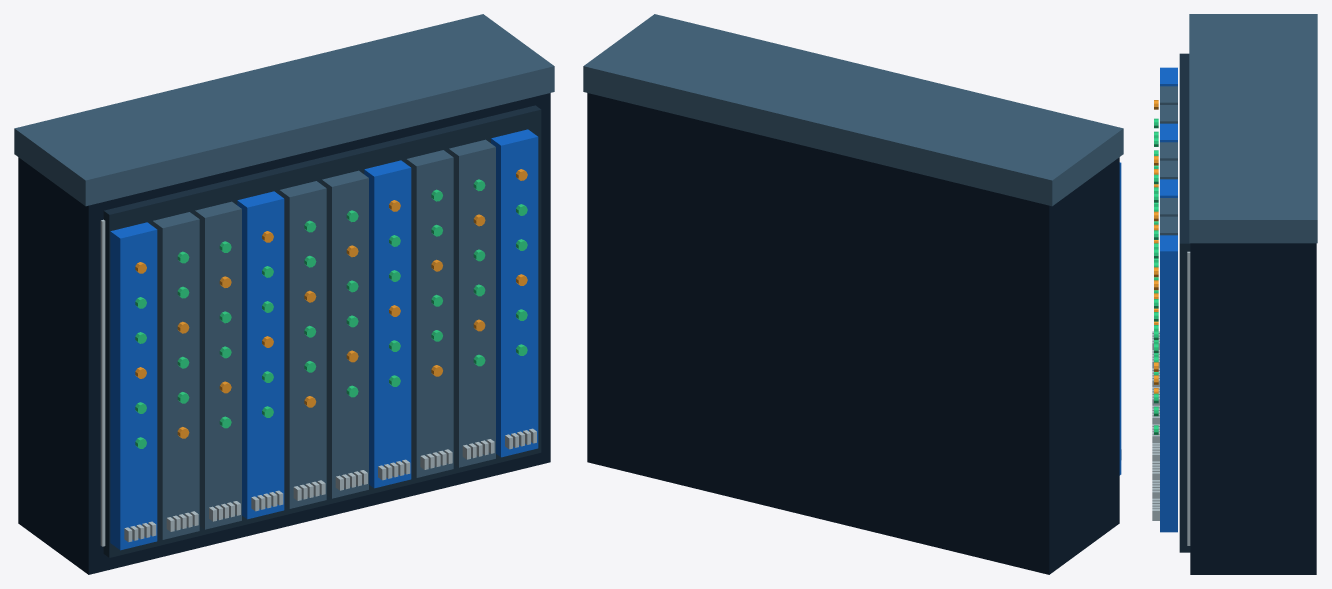
File: 44_L72_AtomicDepositionPLCRack.fbx
3 views of the same model, side by side, from view 1: azimuth 30°, elevation 25°; view 2: azimuth 150°, elevation 25°; view 3: azimuth 270°, elevation 25° (orthographic). The views are drawn at different scales.
Visible parts, largest first — view 1: AtomicDepositionPLCRack; view 2: AtomicDepositionPLCRack; view 3: AtomicDepositionPLCRack.
Part boxes in pixels (bbox=[...]): AtomicDepositionPLCRack: bbox=[14, 14, 554, 574]; AtomicDepositionPLCRack: bbox=[583, 14, 1123, 574]; AtomicDepositionPLCRack: bbox=[1152, 14, 1317, 574].
Size of the model in its own units: 266 by 214 by 90.1.
